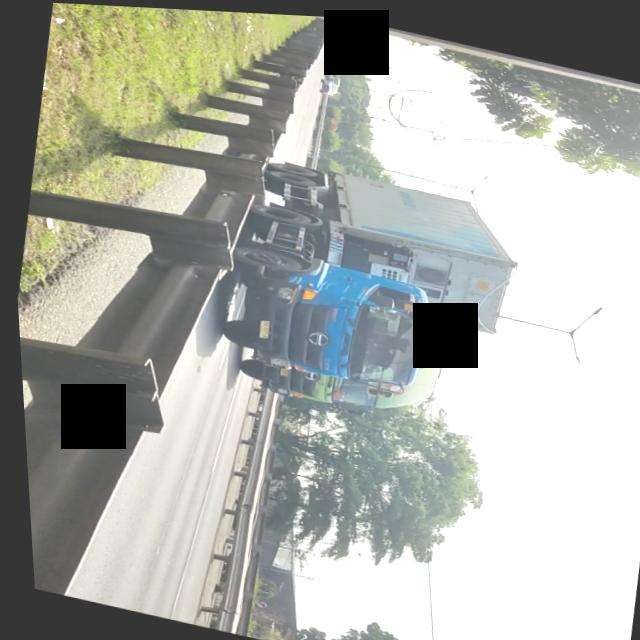Golongan IV: (194, 141, 503, 411)
